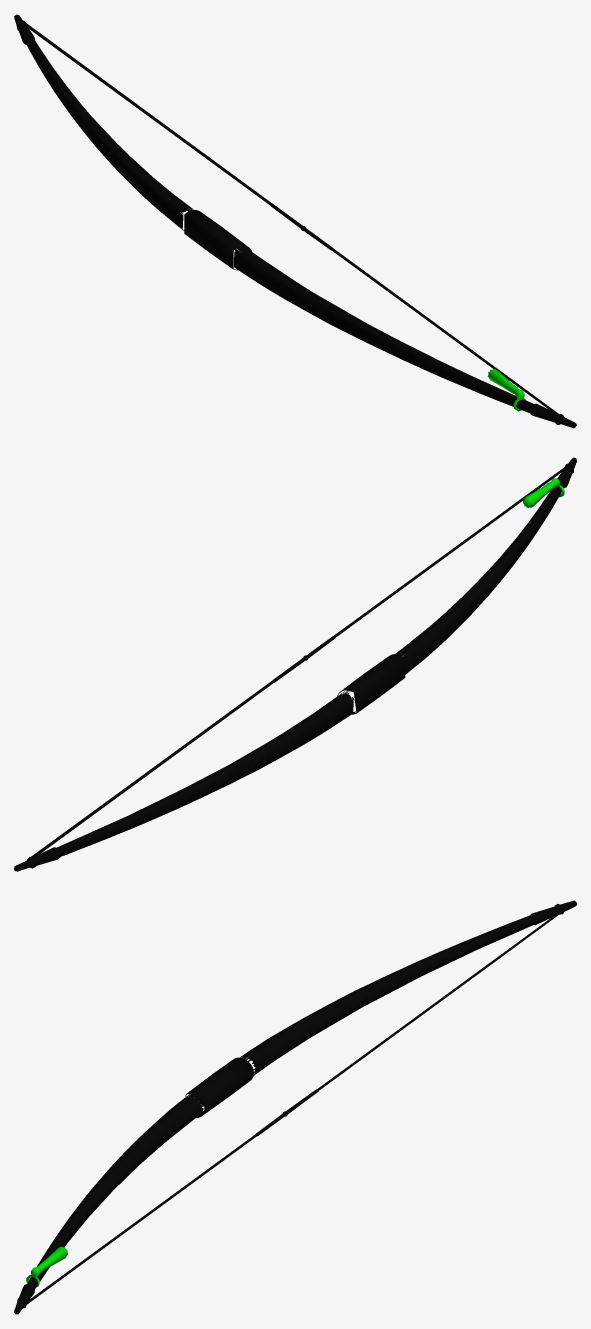
Rendered from longbow.glb.
3 views of the same model, one above another, from view 1: azimuth 30°, elevation 25°; view 2: azimuth 150°, elevation 25°; view 3: azimuth 330°, elevation 25° (orthographic).
Parts seen in each view (by area): view 1: longbow; view 2: longbow; view 3: longbow.
Boxes of the visible parts, x1,y1,x2,y2 form: longbow: (14, 14, 576, 428); longbow: (14, 457, 576, 871); longbow: (14, 900, 576, 1314).
Size of the model in its own units: 0.1389 by 0.0394 by 1.5.
